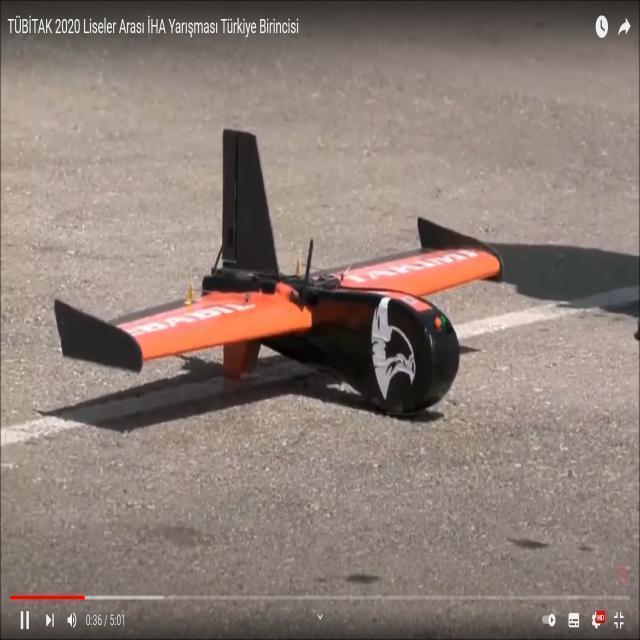iha: (48, 112, 509, 434)
